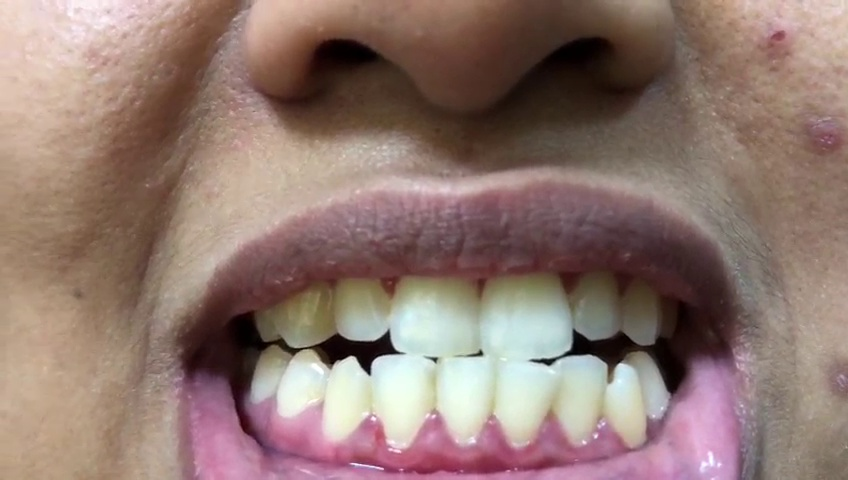1st Premolar: (276, 351, 328, 420), (626, 351, 670, 423)
2nd Premolar: (250, 345, 290, 408)
Canine: (276, 270, 332, 348), (324, 355, 371, 443), (606, 362, 647, 450), (624, 273, 660, 347)
Central Incisor: (481, 257, 573, 359), (391, 266, 481, 355), (488, 357, 559, 449), (438, 354, 490, 447)
Lateral Incisor: (371, 354, 436, 450), (553, 359, 606, 447), (333, 268, 392, 342), (572, 267, 624, 340)
